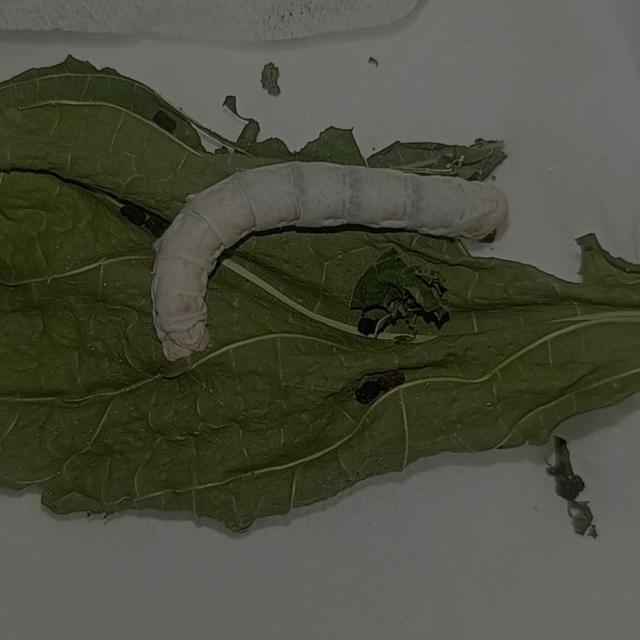Healthy: (128, 134, 525, 382)
